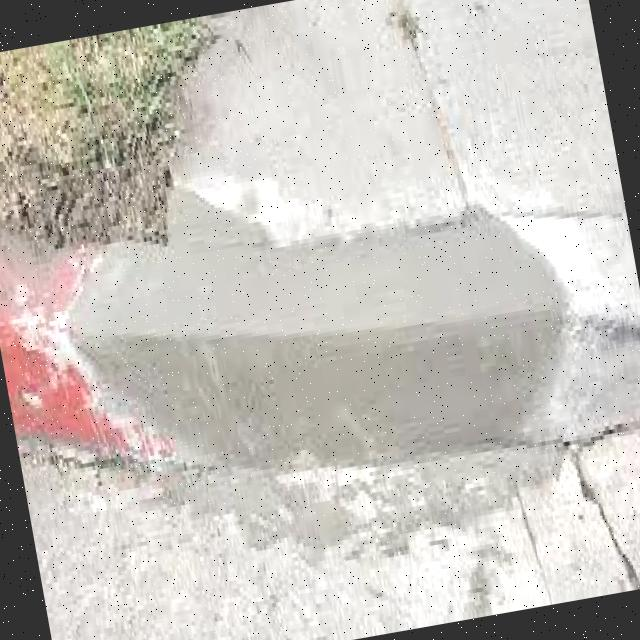curb: (66, 225, 570, 481)
